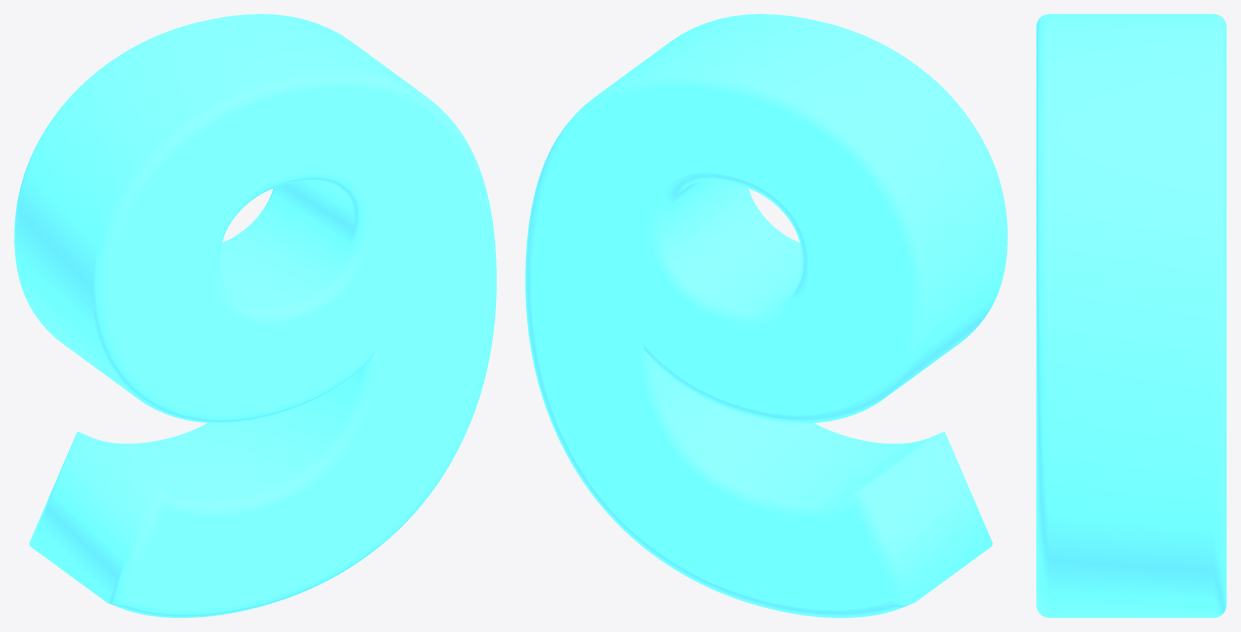
The picture shows the model from 3 angles, left to right: view 1: azimuth 30°, elevation 25°; view 2: azimuth 150°, elevation 25°; view 3: azimuth 270°, elevation 25°; orthographic projection. The views are drawn at different scales.
Parts seen in each view (by area): view 1: N_9_border; view 2: N_9_border; view 3: N_9_border.
Boxes of the visible parts, box(x1,y1,x2,y2) form: N_9_border: box(14, 14, 496, 617); N_9_border: box(525, 14, 1007, 617); N_9_border: box(1036, 14, 1226, 617).
Bounding box in the file's own units: 45.47 × 56.35 × 17.4.
